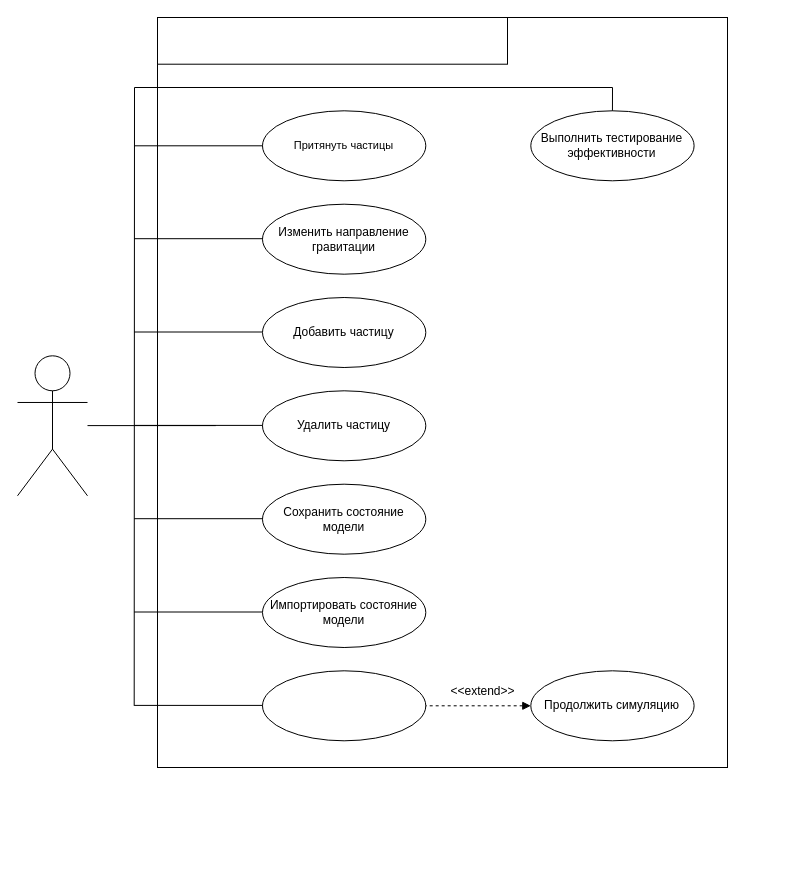
Some shapes in this 805 by 875 pixel diagram are drawn without their labels. Each missing label, with the box of its shape:
Остановить симуляцию: (262, 670, 426, 741)
Пользователь: (16, 355, 88, 496)
Симуляция физической модели: (156, 16, 508, 64)
